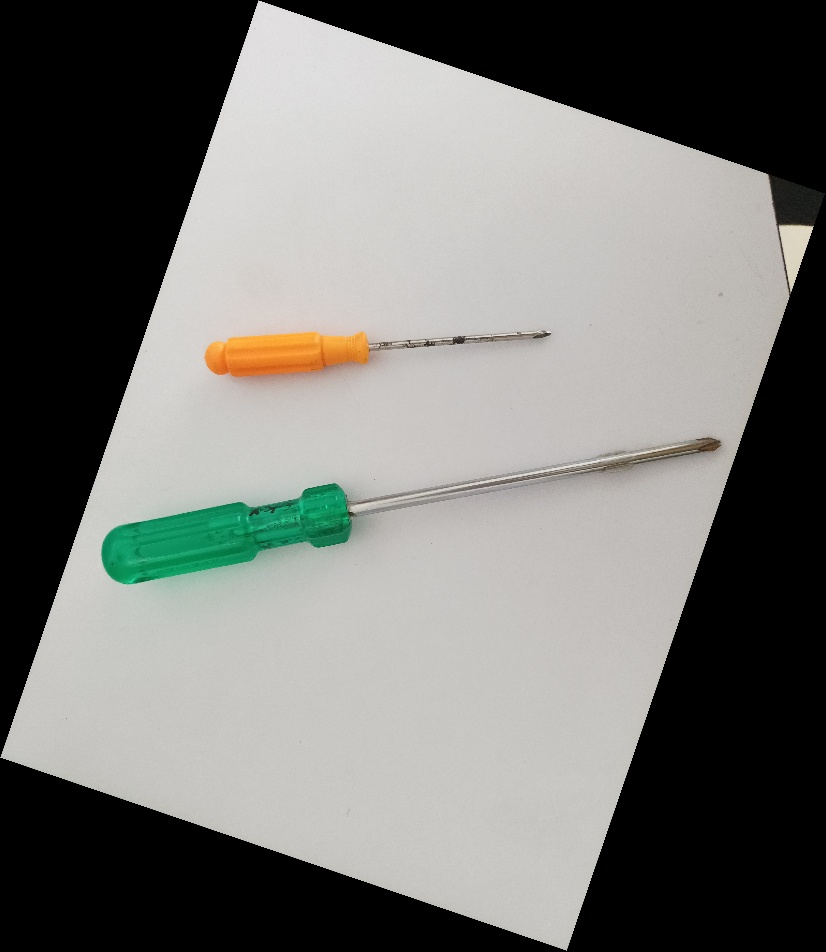screwdriver: (99, 433, 725, 587), (201, 325, 558, 382)
